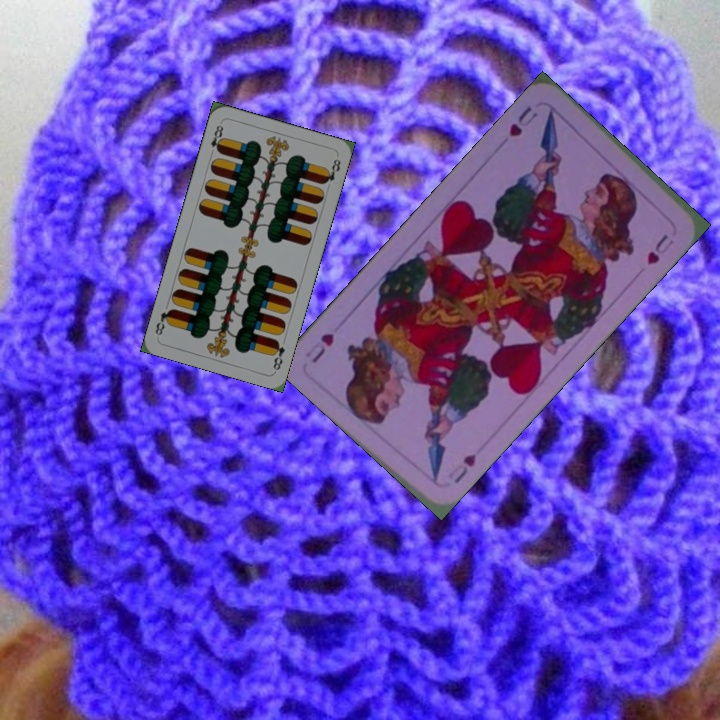E8: (206, 119, 226, 158), (268, 336, 287, 373)
HU: (505, 102, 541, 140), (450, 449, 479, 486)
